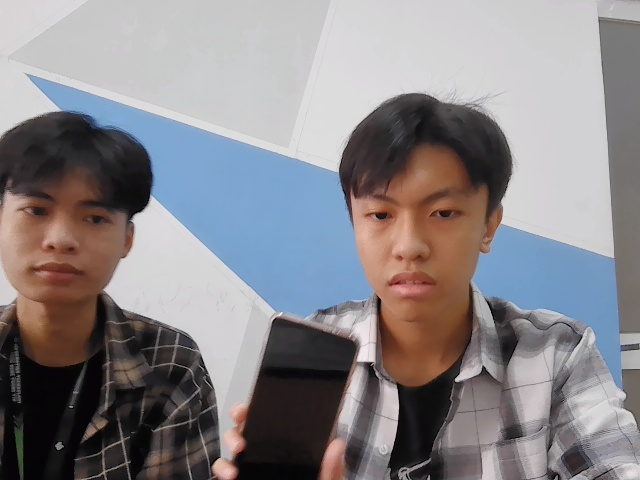human: (336, 92, 508, 333), (1, 113, 160, 306)
phone: (225, 305, 353, 480)
